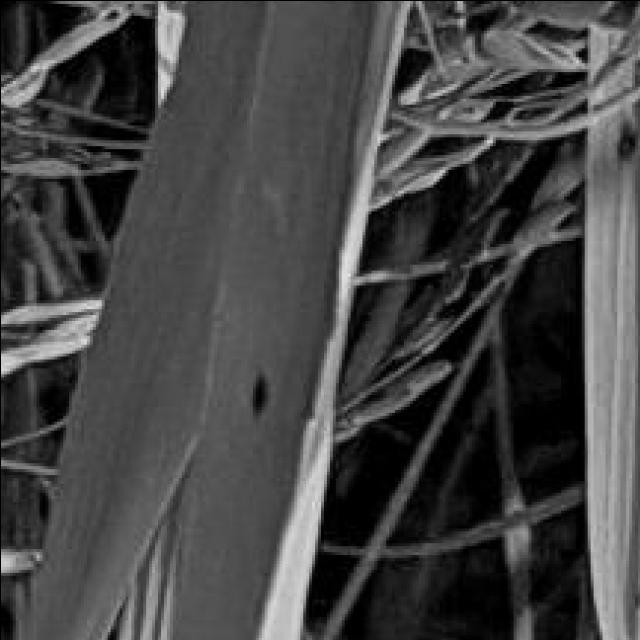Brown_Spot: (242, 362, 284, 444)
